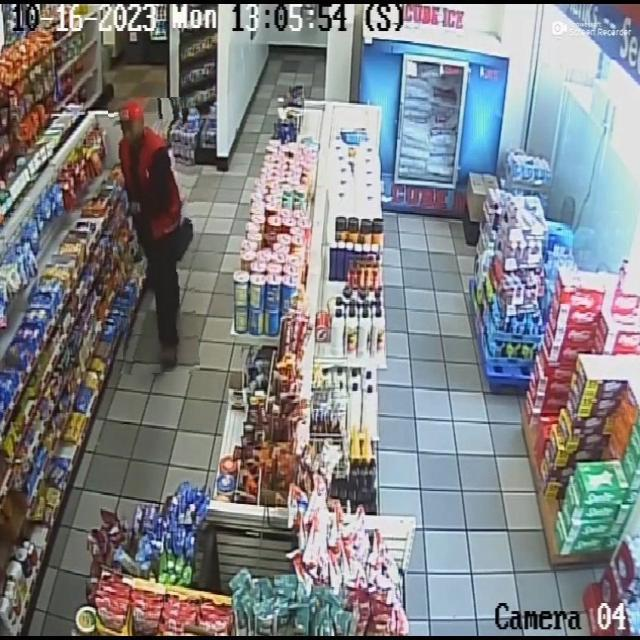Normal: (113, 98, 195, 374)
